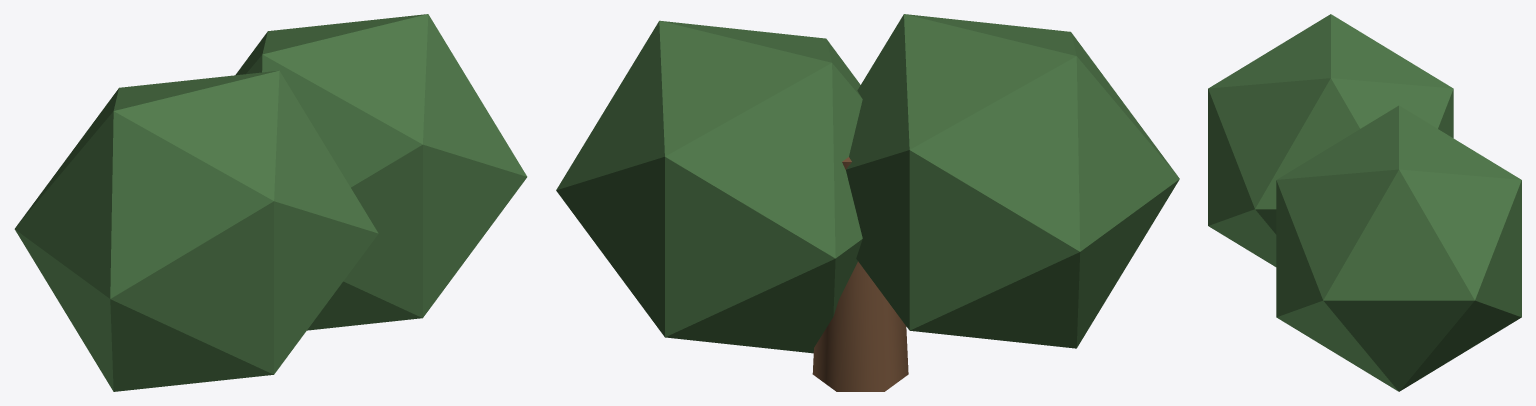
Rendered from crop-avocado-tree-stage-1-sapling.glb.
The picture shows the model from 3 angles, left to right: view 1: azimuth 30°, elevation 25°; view 2: azimuth 150°, elevation 25°; view 3: azimuth 270°, elevation 25°; orthographic projection. The views are drawn at different scales.
Parts seen in each view (by area): view 1: crop-avocado-tree-stage-1-sapling-beach-foliage; view 2: crop-avocado-tree-stage-1-sapling-beach-foliage, crop-avocado-tree-stage-1-sapling-beach-trunk; view 3: crop-avocado-tree-stage-1-sapling-beach-foliage.
Boxes of the visible parts, x1,y1,x2,y2 form: crop-avocado-tree-stage-1-sapling-beach-foliage: (14, 14, 527, 391); crop-avocado-tree-stage-1-sapling-beach-foliage: (556, 14, 1179, 353); crop-avocado-tree-stage-1-sapling-beach-trunk: (812, 157, 908, 391); crop-avocado-tree-stage-1-sapling-beach-foliage: (1208, 14, 1521, 391).
Size of the model in its own units: 1.11 by 0.7232 by 0.8262.
